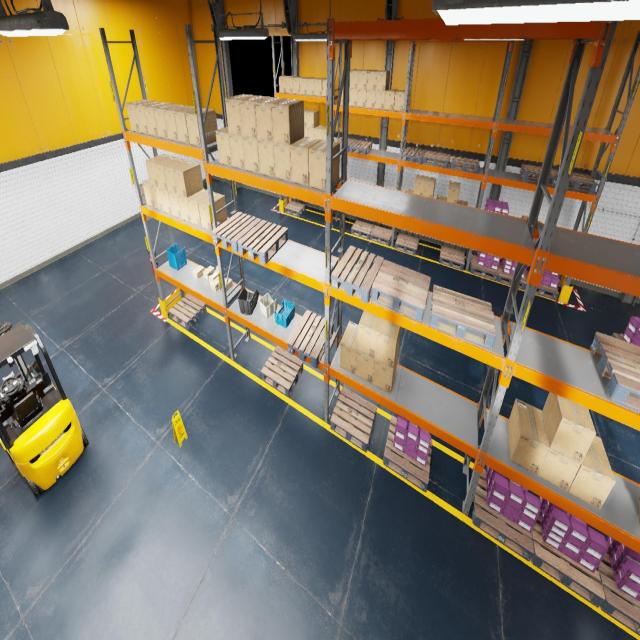box: (543, 392, 596, 463), (568, 436, 615, 510), (538, 411, 581, 491), (507, 398, 549, 475), (290, 137, 322, 186), (308, 140, 339, 190), (272, 99, 304, 144), (255, 97, 287, 142), (239, 95, 271, 139), (375, 318, 401, 368), (373, 344, 399, 394), (225, 94, 255, 136), (185, 108, 217, 146), (198, 192, 227, 231), (357, 311, 381, 358), (173, 162, 203, 198), (174, 107, 203, 144), (163, 105, 192, 141), (187, 189, 214, 226), (143, 102, 172, 136), (340, 320, 358, 374), (153, 104, 181, 138), (134, 100, 162, 134), (163, 159, 189, 194), (154, 156, 180, 191), (146, 154, 172, 187), (126, 100, 152, 132), (274, 142, 292, 182), (215, 126, 232, 166), (242, 137, 260, 173), (258, 139, 275, 177), (356, 350, 374, 384), (229, 134, 245, 169), (521, 215, 541, 243), (177, 195, 191, 222), (168, 191, 181, 219), (142, 179, 155, 207), (159, 188, 172, 214), (150, 185, 163, 211), (384, 89, 398, 110), (446, 181, 459, 203), (376, 70, 390, 90), (413, 174, 426, 195), (423, 177, 436, 197), (322, 78, 335, 97), (394, 90, 405, 112), (367, 70, 379, 90), (358, 70, 370, 90), (299, 76, 311, 95), (292, 76, 304, 95), (306, 110, 318, 128), (314, 78, 326, 96), (306, 77, 318, 95), (350, 70, 362, 88), (375, 91, 385, 109), (208, 266, 219, 282), (286, 76, 296, 93), (192, 265, 205, 278), (366, 90, 375, 108), (357, 89, 366, 107), (210, 276, 220, 292), (279, 76, 289, 92), (203, 266, 215, 279), (314, 126, 326, 139), (349, 88, 357, 106), (221, 278, 232, 291), (304, 109, 311, 127), (307, 128, 314, 138), (457, 200, 468, 206), (321, 127, 326, 140), (340, 86, 343, 105), (436, 195, 447, 200), (405, 189, 414, 193), (639, 495, 640, 524), (304, 128, 307, 136)
forklift: (0, 321, 88, 498)
pallets: (531, 512, 605, 608), (472, 465, 534, 561), (430, 285, 496, 350), (590, 332, 640, 412), (383, 415, 432, 492), (371, 260, 431, 322), (596, 552, 640, 636), (331, 246, 384, 304), (331, 387, 376, 452), (288, 310, 334, 368), (237, 220, 288, 264), (261, 346, 303, 397), (212, 212, 261, 252), (168, 293, 206, 329), (554, 169, 597, 192), (525, 271, 559, 300), (497, 262, 527, 290), (520, 164, 558, 186), (470, 255, 498, 281), (439, 246, 464, 270), (394, 233, 418, 255), (451, 156, 480, 173), (423, 150, 450, 168), (402, 146, 427, 164), (370, 226, 392, 246), (351, 220, 374, 239), (349, 139, 372, 155), (284, 201, 306, 216), (335, 137, 355, 152), (612, 333, 625, 341), (333, 188, 338, 194)
